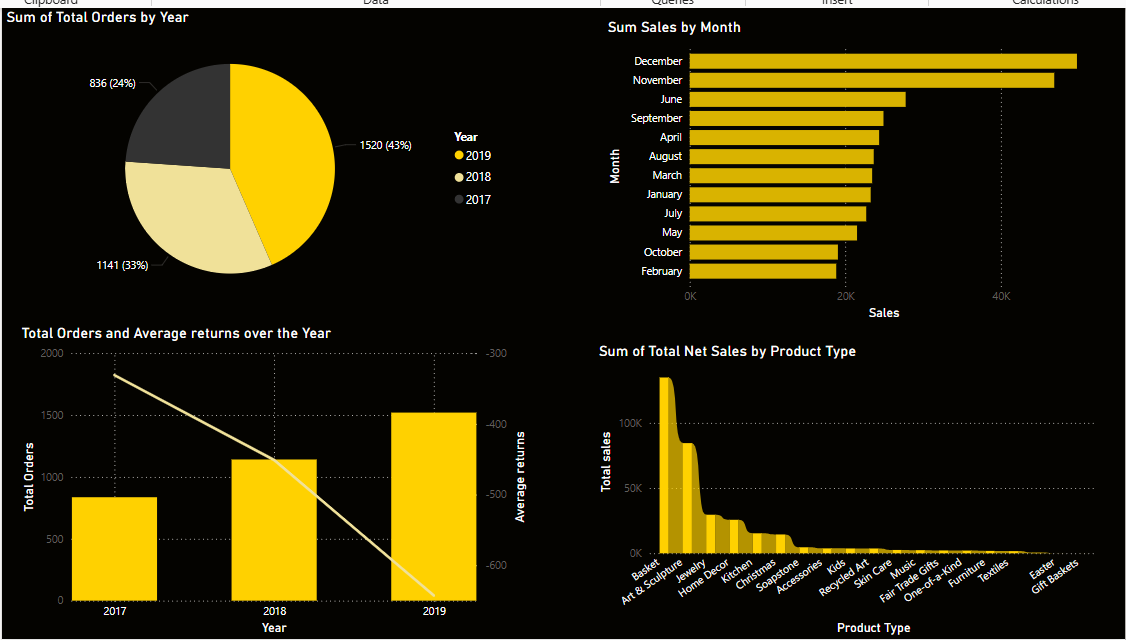

The dashboard page shown, as its layout file describes it:
{"tool":"powerbi","page":{"name":"Revenue by year","canvas":[1280,720],"ordinal":0},"visuals":[{"type":"clusteredBarChart","title":"Sum Sales by Month","fields":{"Category":["business retailsales2.Month"],"Y":["Sum(business retailsales2.Net Sales)"]},"box":[685.6,11.4,557.3,349.2],"z":0},{"type":"pieChart","fields":{"Category":["business retailsales2.Year"],"Y":["Sum(business retailsales2.Total Orders)"]},"box":[0,0,571.6,347.8],"z":1000},{"type":"lineStackedColumnComboChart","title":"Total Orders and Average returns over the Year","fields":{"Category":["business retailsales2.Year"],"Y2":["Avg(business retailsales2.Returns)"],"Y":["Sum(business retailsales2.Total Orders)"]},"box":[17.1,360.6,585.8,359.2],"z":2000},{"type":"ribbonChart","fields":{"Y":["Sum(business retailsales.Total Net Sales)"],"Category":["business retailsales.Product Type"]},"box":[675.6,380.6,578.7,339.2],"z":4000}]}

Visuals, with their boxes on the page's 1280x720 design canvas (x1, y1, x2, y2). These are canvas units, not pixel positions in the 1126x640 screenshot, which may show the page scaled, cropped or inside an application window:
"Sum Sales by Month" clusteredBarChart: box=[686, 11, 1243, 361]
pieChart - business retailsales2.Year x Sum(business retailsales2.Total Orders): box=[0, 0, 572, 348]
"Total Orders and Average returns over the Year" lineStackedColumnComboChart: box=[17, 361, 603, 720]
ribbonChart - Sum(business retailsales.Total Net Sales) x business retailsales.Product Type: box=[676, 381, 1254, 720]
